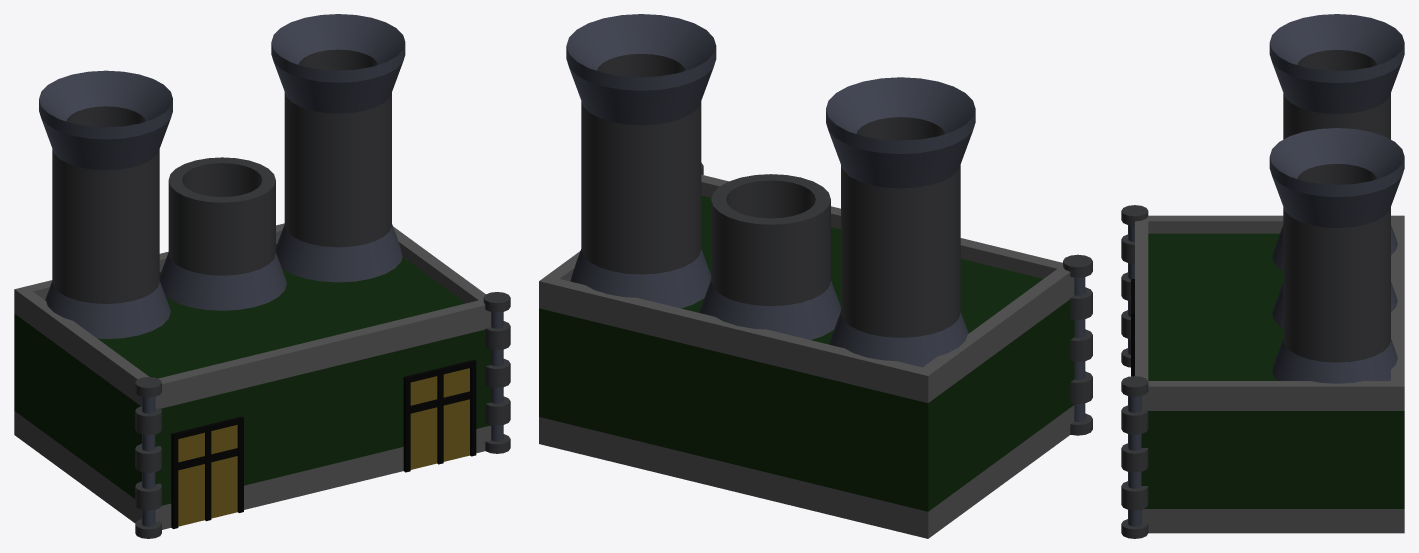
The model's file is Factory.fbx.
The picture shows the model from 3 angles, left to right: view 1: azimuth 30°, elevation 25°; view 2: azimuth 150°, elevation 25°; view 3: azimuth 270°, elevation 25°; orthographic projection. The views are drawn at different scales.
Visible parts, largest first — view 1: block (×4), pipe_largeBase (×3), pipe_largeExhaust (×2), roof_flatCorner (×4), door_wide (×2), roof_flatEdge (×2), tube_steel (×2); view 2: block (×4), pipe_largeExhaust (×2), pipe_largeBase (×3), roof_flatCorner (×4), roof_flatEdge (×2), tube_steel; view 3: block (×2), pipe_largeExhaust (×2), roof_flatCorner (×4), pipe_largeBase (×3), roof_flatEdge (×2), tube_steel (×2), door_wide.
Boxes of the visible parts, x1,y1,x2,y2 form: block (×4): (14,314,491,529); pipe_largeBase (×3): (45,152,402,338); pipe_largeExhaust (×2): (39,14,405,236); roof_flatCorner (×4): (14,223,491,408); door_wide (×2): (171,360,476,528); roof_flatEdge (×2): (159,251,380,383); tube_steel (×2): (135,292,510,538); block (×4): (539,299,1074,538); pipe_largeExhaust (×2): (566,14,975,269); pipe_largeBase (×3): (570,168,968,367); roof_flatCorner (×4): (539,175,1074,402); roof_flatEdge (×2): (668,206,840,371); tube_steel: (1063,254,1092,435); block (×2): (1141,411,1404,533); pipe_largeExhaust (×2): (1269,14,1404,301); roof_flatCorner (×4): (1135,215,1404,410); pipe_largeBase (×3): (1272,225,1397,383); roof_flatEdge (×2): (1135,272,1404,341); tube_steel (×2): (1121,205,1148,538); door_wide: (1131,279,1134,376).
Size of the model in its own units: 16 by 14.25 by 10.5.
